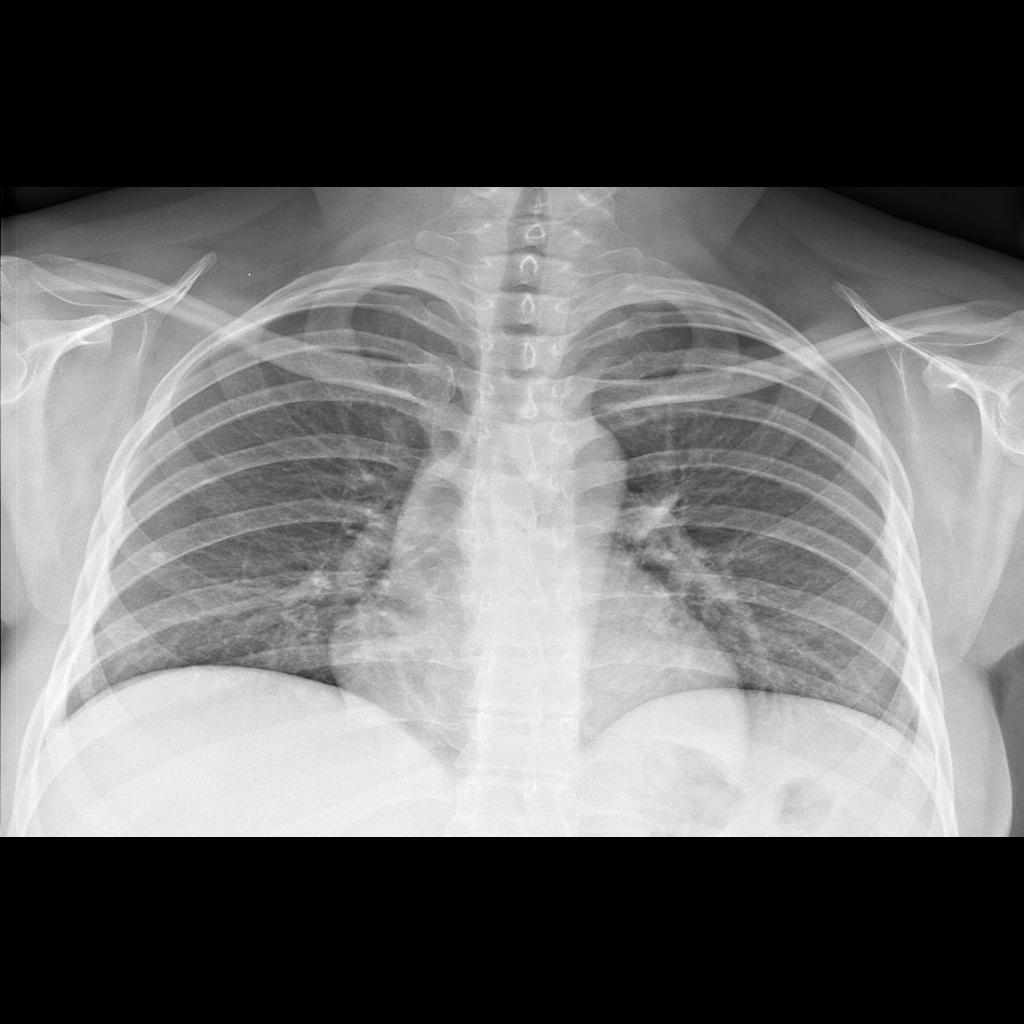Nodule: (143, 546, 171, 579)
